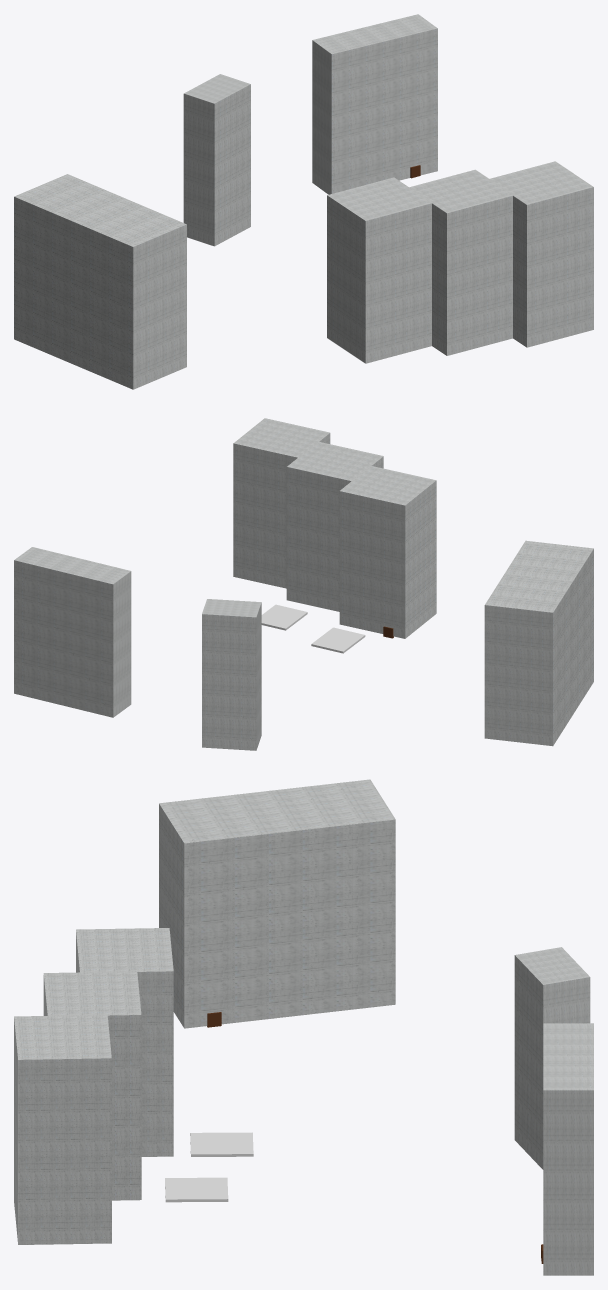
The model's file is flora_square.glb.
The picture shows the model from 3 angles, top to bottom: view 1: azimuth 30°, elevation 25°; view 2: azimuth 150°, elevation 25°; view 3: azimuth 270°, elevation 25°; orthographic projection. The views are drawn at different scales.
Visible parts, largest first — view 1: Building 2, Building 1, Building 4, Building 4.001, Building 4.002, Building 3; view 2: Building 2, Building 1, Building 4, Building 4.001, Building 4.002, Building 3, Cube, Cube.001; view 3: Building 2, Building 4.002, Building 1, Building 4, Building 4.001, Building 3, Cube, Cube.001.
Boxes of the visible parts, x1=… form: Building 2: x1=14, y1=174, x2=186, y2=389; Building 1: x1=312, y1=14, x2=437, y2=194; Building 4: x1=327, y1=177, x2=432, y2=363; Building 4.001: x1=409, y1=169, x2=513, y2=355; Building 4.002: x1=490, y1=161, x2=593, y2=347; Building 3: x1=183, y1=74, x2=250, y2=246; Building 2: x1=484, y1=540, x2=593, y2=746; Building 1: x1=14, y1=547, x2=131, y2=717; Building 4: x1=339, y1=466, x2=436, y2=638; Building 4.001: x1=286, y1=441, x2=383, y2=611; Building 4.002: x1=233, y1=418, x2=330, y2=588; Building 3: x1=202, y1=599, x2=261, y2=750; Cube: x1=311, y1=627, x2=365, y2=653; Cube.001: x1=261, y1=604, x2=307, y2=630; Building 2: x1=159, y1=779, x2=395, y2=1028; Building 4.002: x1=14, y1=1015, x2=111, y2=1244; Building 1: x1=543, y1=1023, x2=593, y2=1275; Building 4: x1=76, y1=928, x2=173, y2=1156; Building 4.001: x1=43, y1=971, x2=141, y2=1200; Building 3: x1=514, y1=947, x2=590, y2=1169; Cube: x1=190, y1=1132, x2=253, y2=1156; Cube.001: x1=165, y1=1177, x2=228, y2=1202.
Size of what is drawn, in the model's own units: 98.83 by 29.58 by 78.
3 materials, 1 textured.
